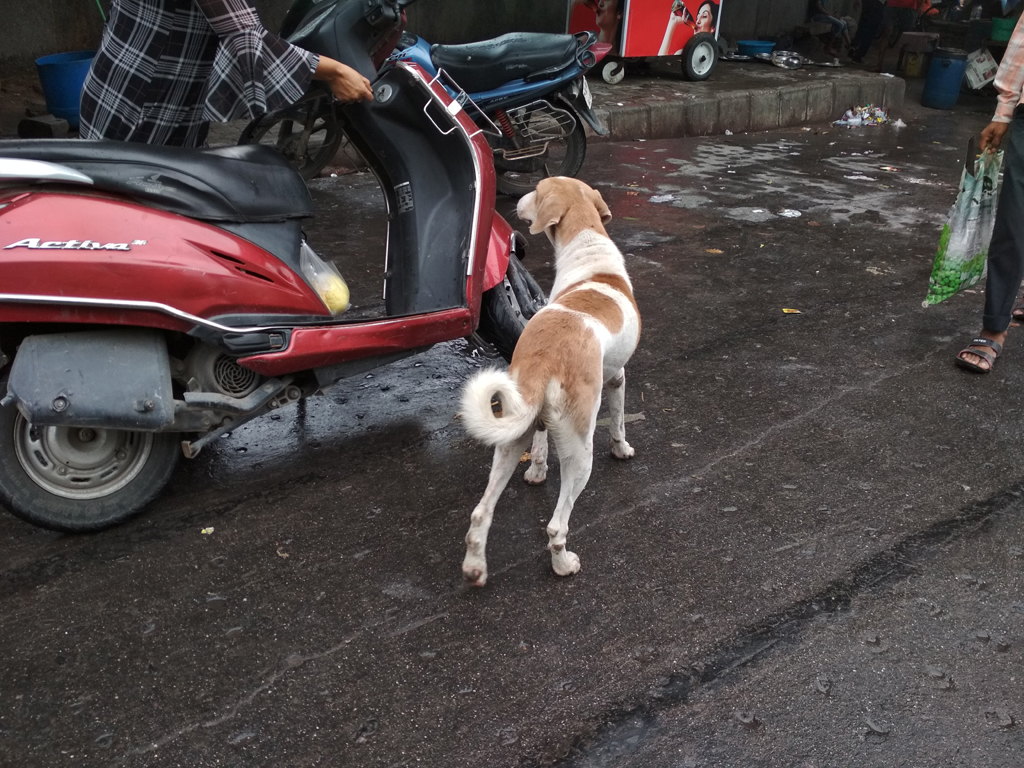dog: (456, 176, 642, 590)
